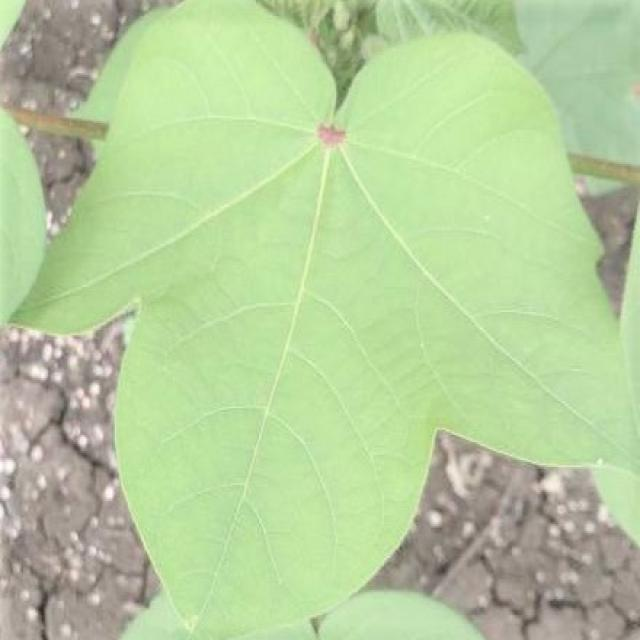Healthy Leaf: (91, 36, 475, 545)
